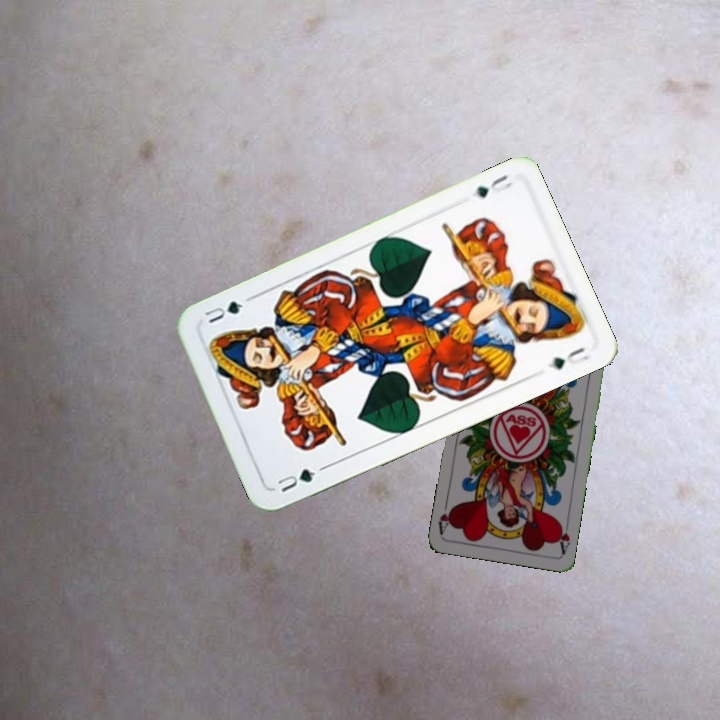GU: (272, 464, 319, 495), (472, 170, 515, 201)
HA: (553, 516, 573, 556)
